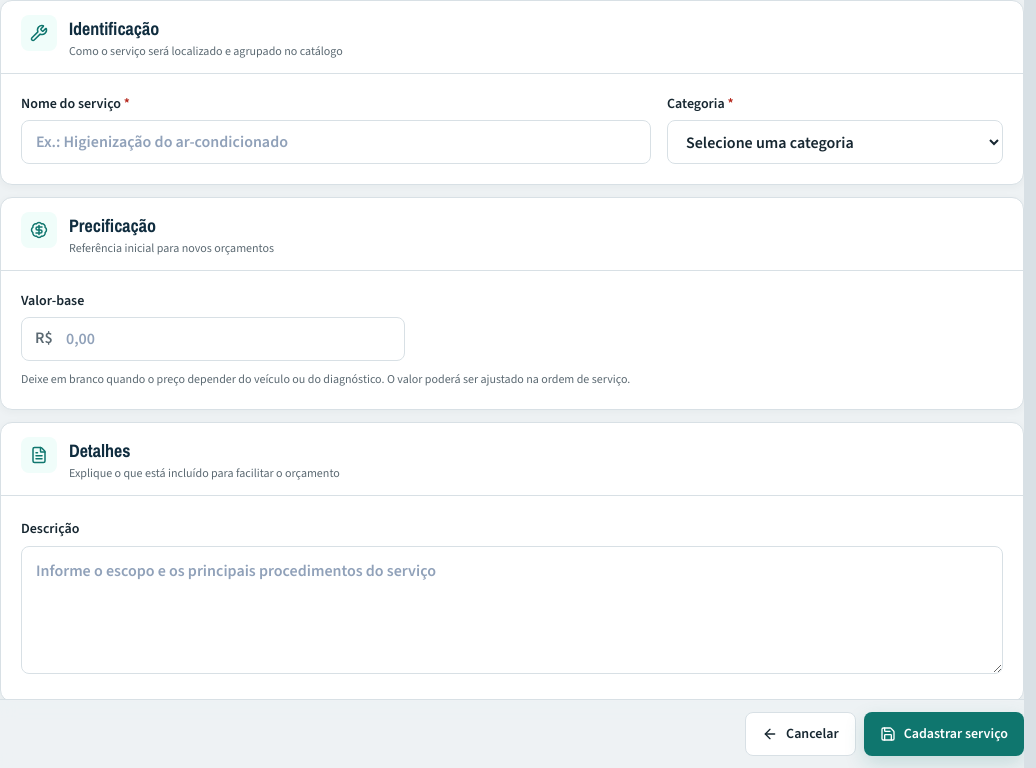
Test: formulário de serviço › valida os campos obrigatórios antes de enviar
Click the button "Cadastrar serviço" at (944, 734), box [864,712,1024,756]
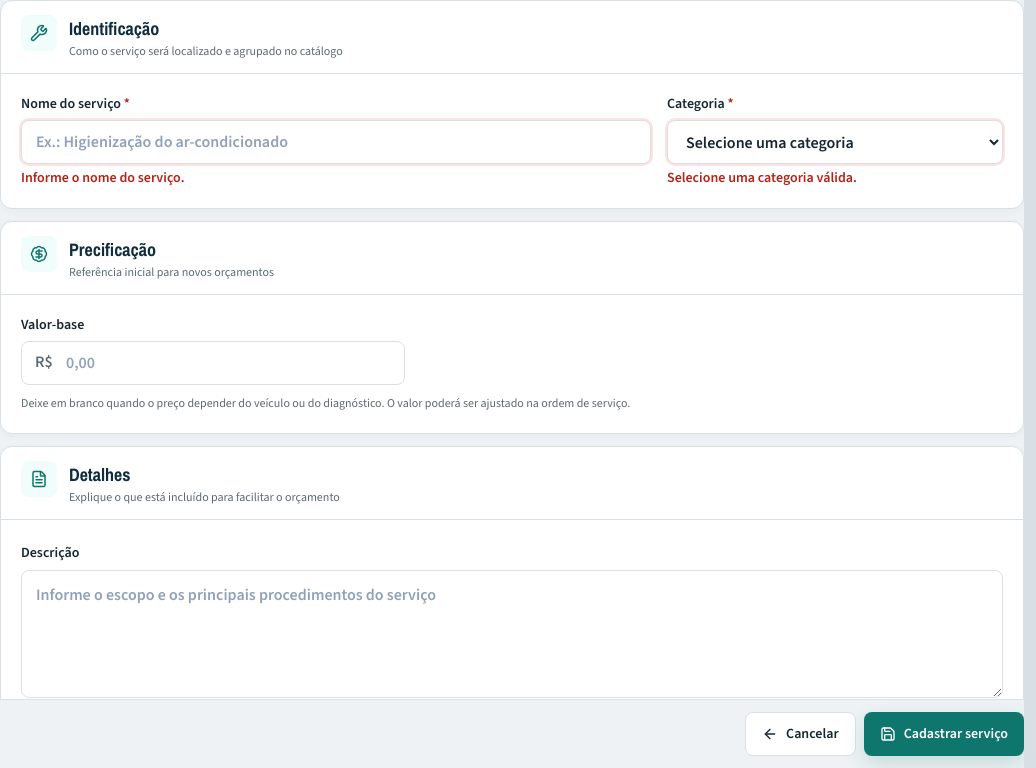
Check: the text "Informe o nome do serviço." is shown, box [21,168,184,187]
Check: the text "Selecione uma categoria válida." is shown, box [667,168,857,187]
